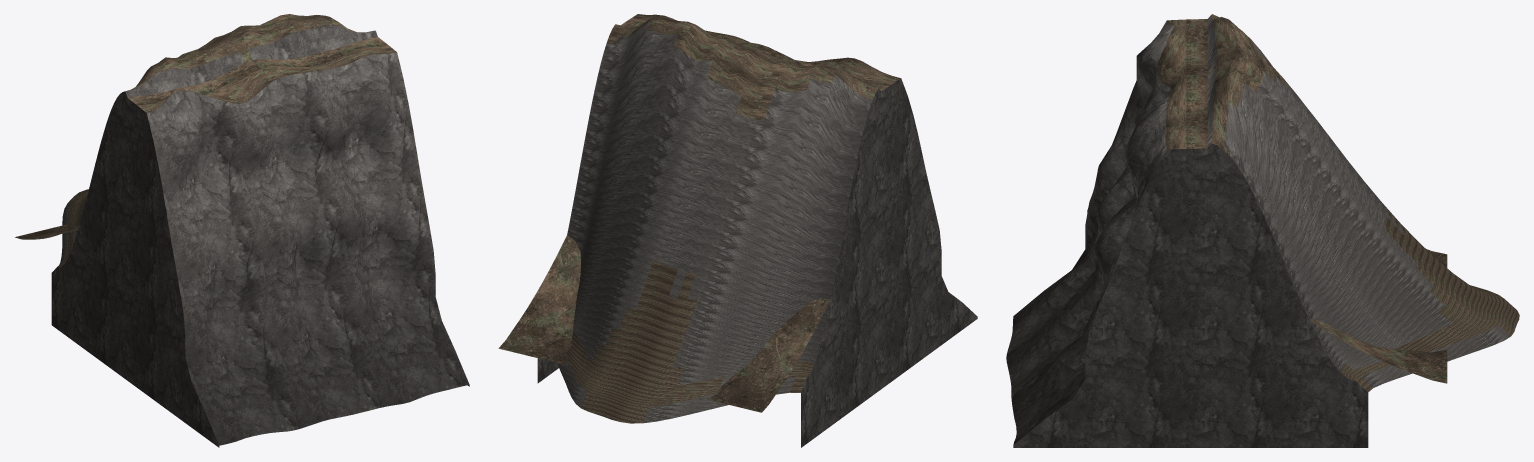
The model's file is seacliff_straight6_h5_v5_autumn.glb.
The picture shows the model from 3 angles, left to right: view 1: azimuth 30°, elevation 25°; view 2: azimuth 150°, elevation 25°; view 3: azimuth 270°, elevation 25°; orthographic projection. The views are drawn at different scales.
Visible parts, largest first — view 1: seacliff_straight6_h5; view 2: seacliff_straight6_h5; view 3: seacliff_straight6_h5.
Part boxes in pixels (bbox=[...]): seacliff_straight6_h5: bbox=[15, 14, 469, 447]; seacliff_straight6_h5: bbox=[498, 14, 977, 447]; seacliff_straight6_h5: bbox=[1006, 14, 1519, 447].
Size of the model in its own units: 6 by 7.24 by 10.06.
Materials: 2 (2 with a texture image).
